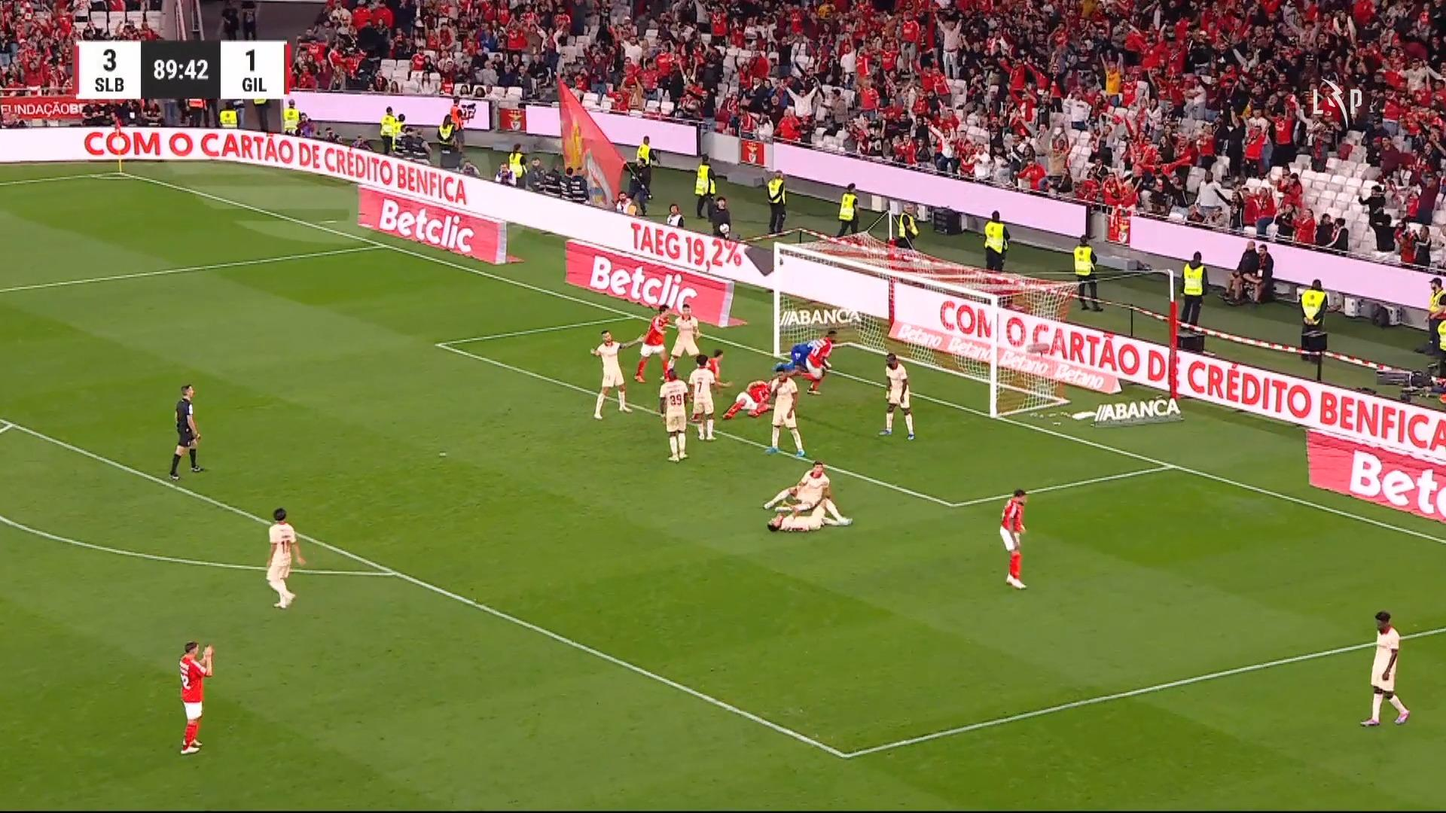goalkeeper: (773, 335, 834, 374)
player: (1359, 610, 1410, 727), (588, 330, 645, 419), (264, 507, 306, 609), (177, 640, 214, 754), (764, 363, 807, 458), (763, 460, 833, 512), (877, 351, 915, 440), (633, 303, 672, 383), (998, 488, 1028, 589), (658, 367, 690, 461), (767, 500, 853, 533), (664, 301, 701, 376), (688, 353, 719, 440), (800, 328, 837, 393), (721, 379, 772, 420), (705, 349, 732, 388)
referee: (168, 382, 205, 480)
